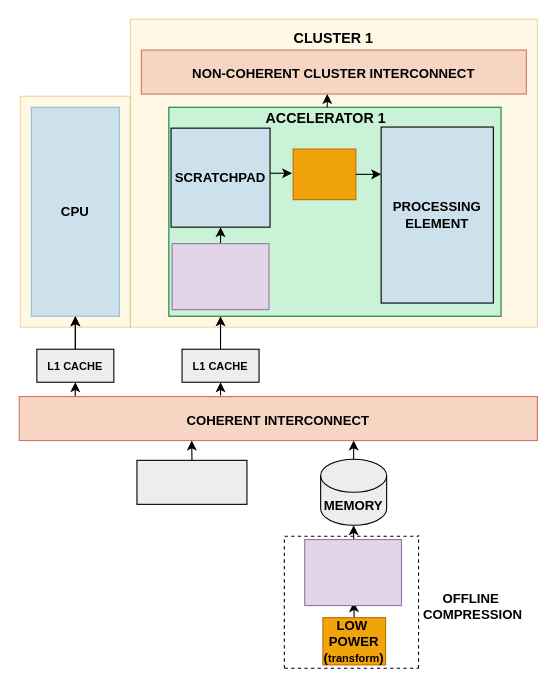
Image size: 557x689. Some labels were removed from this diagram. The centre of each missing label's shape, as x and y in pixels:
DECODER: (x=220, y=276)
ENCODER: (x=353, y=572)
L2 CACHE: (x=191, y=481)
LOW POWER ( reversion ): (x=324, y=174)
